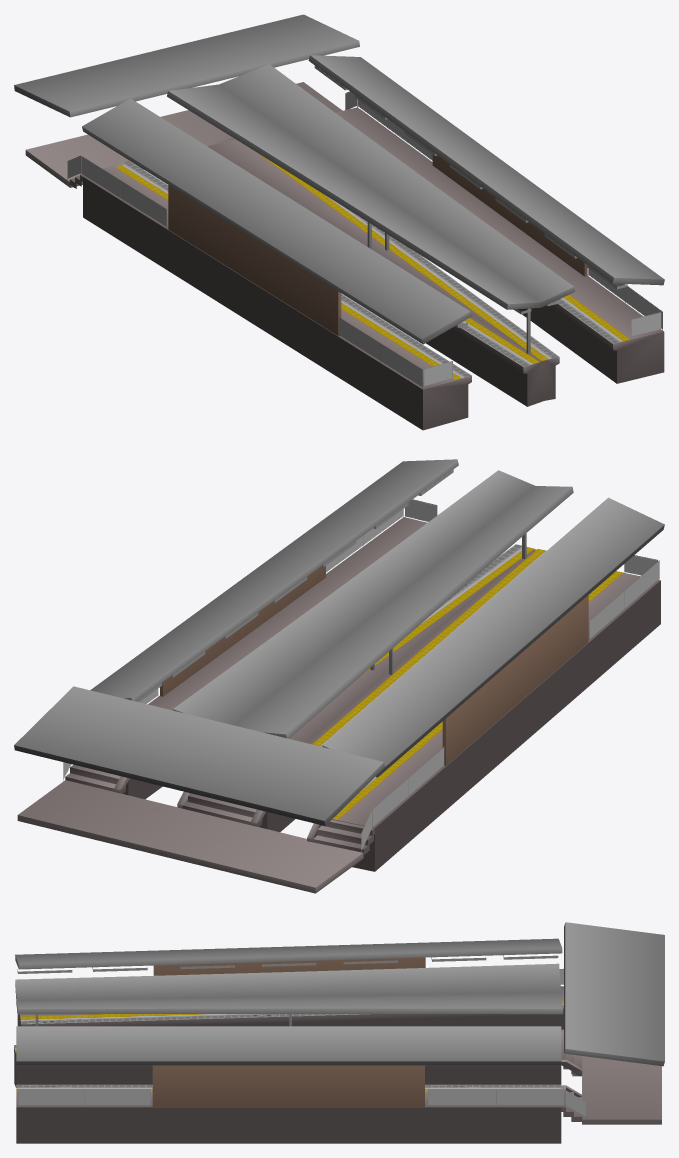
Rendered from SANJOU00.glb.
3 renders of one model, top to bottom at view 1: azimuth 30°, elevation 25°; view 2: azimuth 150°, elevation 25°; view 3: azimuth 270°, elevation 25°, orthographic. The views are drawn at different scales.
Visible parts, largest first — view 1: FRAME_ROOT; view 2: FRAME_ROOT; view 3: FRAME_ROOT.
Part boxes in pixels (x1,y1,x2,y2): FRAME_ROOT: (14, 14, 664, 430); FRAME_ROOT: (14, 459, 664, 893); FRAME_ROOT: (14, 922, 664, 1143).
Bounding box in the file's own units: 55 × 19.38 × 119.
4 materials, 2 textured.
